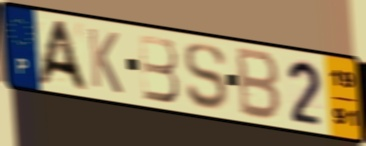2: (282, 55, 327, 130)
A: (33, 19, 92, 94)
B: (236, 44, 283, 124), (136, 32, 182, 105)
K: (85, 25, 125, 97)
S: (182, 42, 228, 112)
